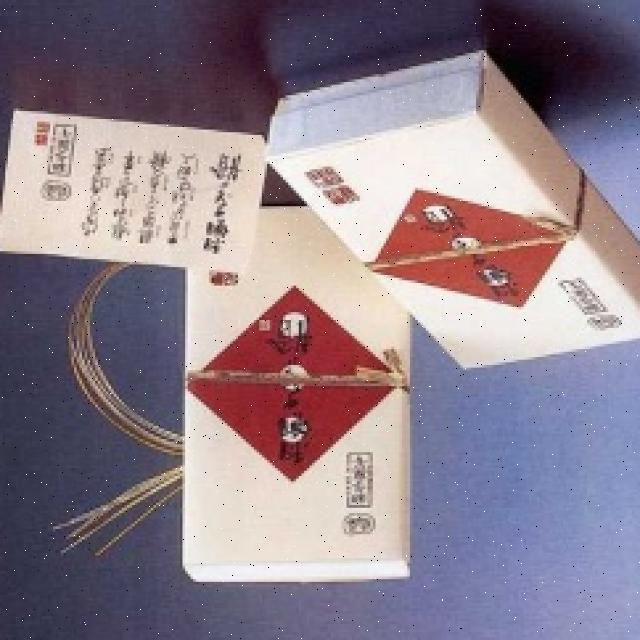box: (267, 71, 640, 381), (161, 202, 422, 586)
